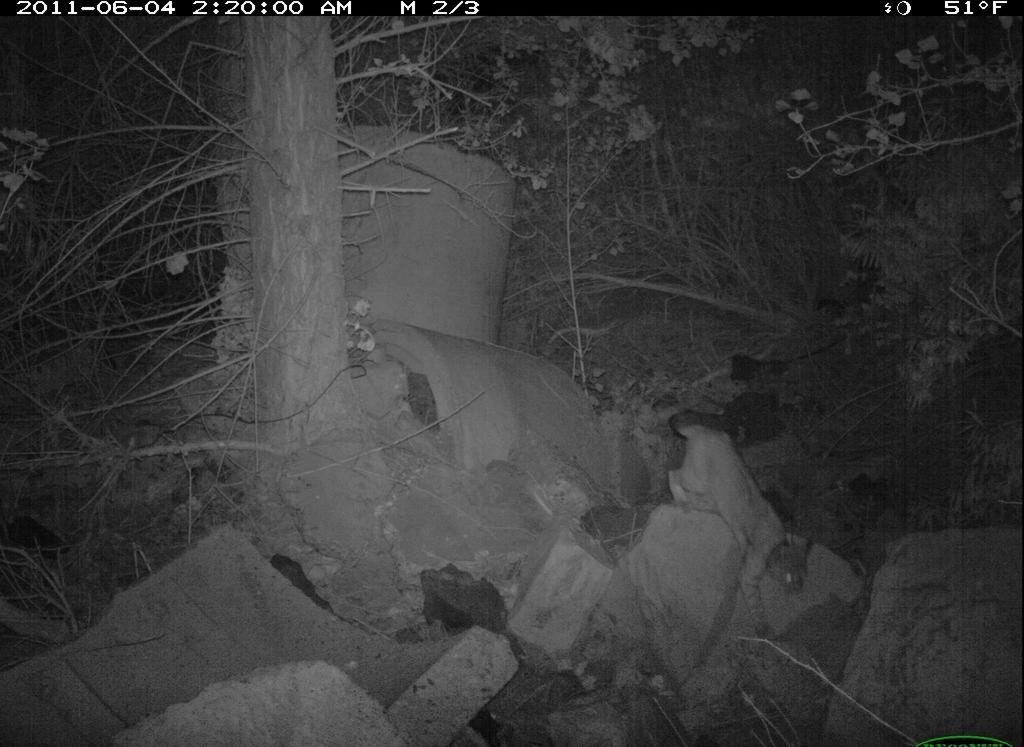bobcat: (665, 406, 822, 641)
